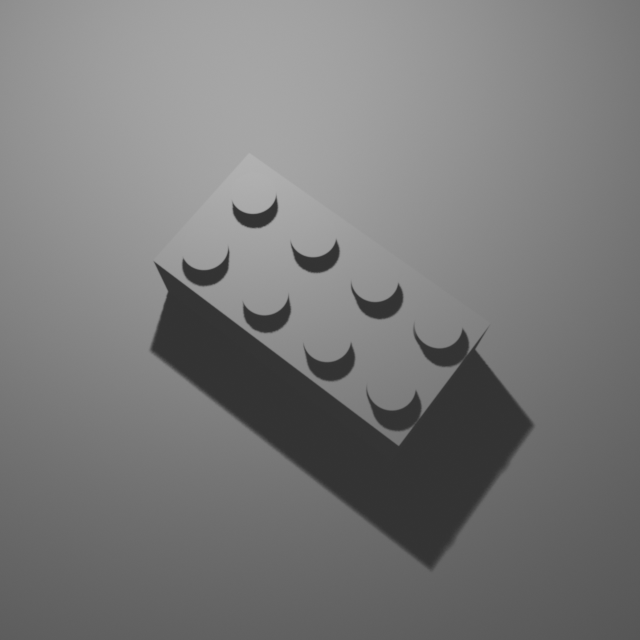lego_2x4: (150, 146, 494, 461)
